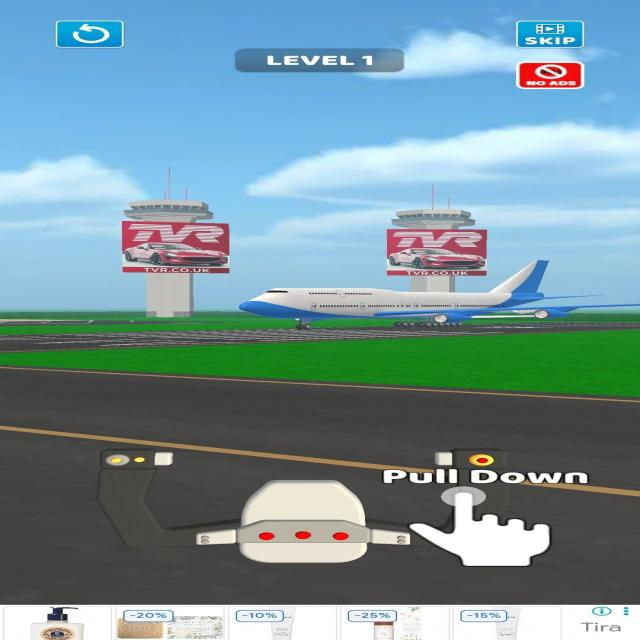billboard: (120, 220, 233, 274), (385, 228, 491, 277)
